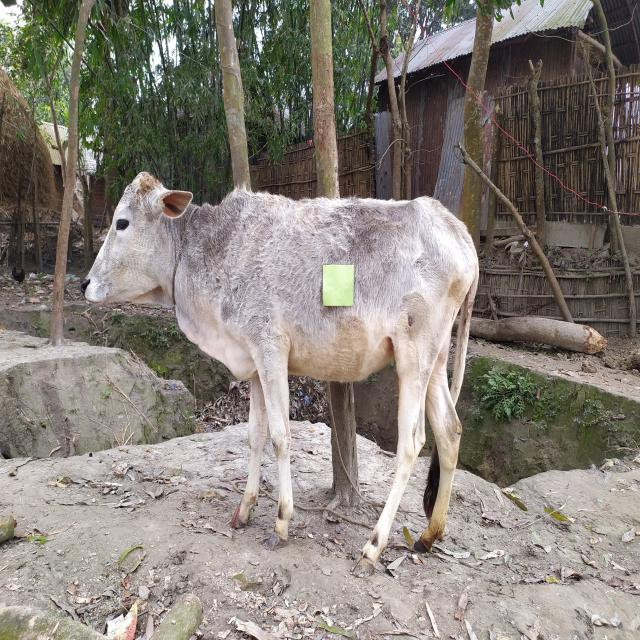badan_sapi: (234, 197, 468, 372)
sapi: (80, 161, 484, 572)
